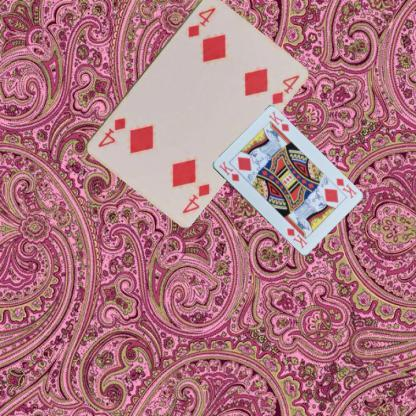4d: (185, 4, 217, 39), (179, 180, 211, 214)
Kd: (216, 158, 240, 183), (333, 176, 358, 200)
